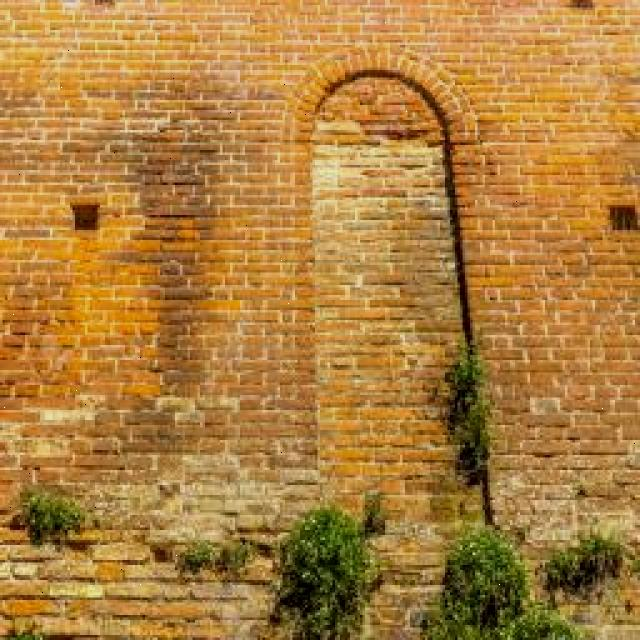crack: (291, 45, 496, 532), (303, 93, 340, 489)
dampness: (2, 392, 196, 517), (510, 277, 639, 448), (0, 520, 149, 636), (153, 531, 273, 638)
vegetation: (418, 523, 581, 639), (271, 502, 381, 639), (15, 485, 87, 544), (176, 536, 252, 576), (17, 484, 52, 521), (360, 491, 387, 537), (4, 618, 45, 640)
